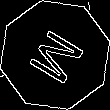M_SE: (21, 22, 89, 88)
